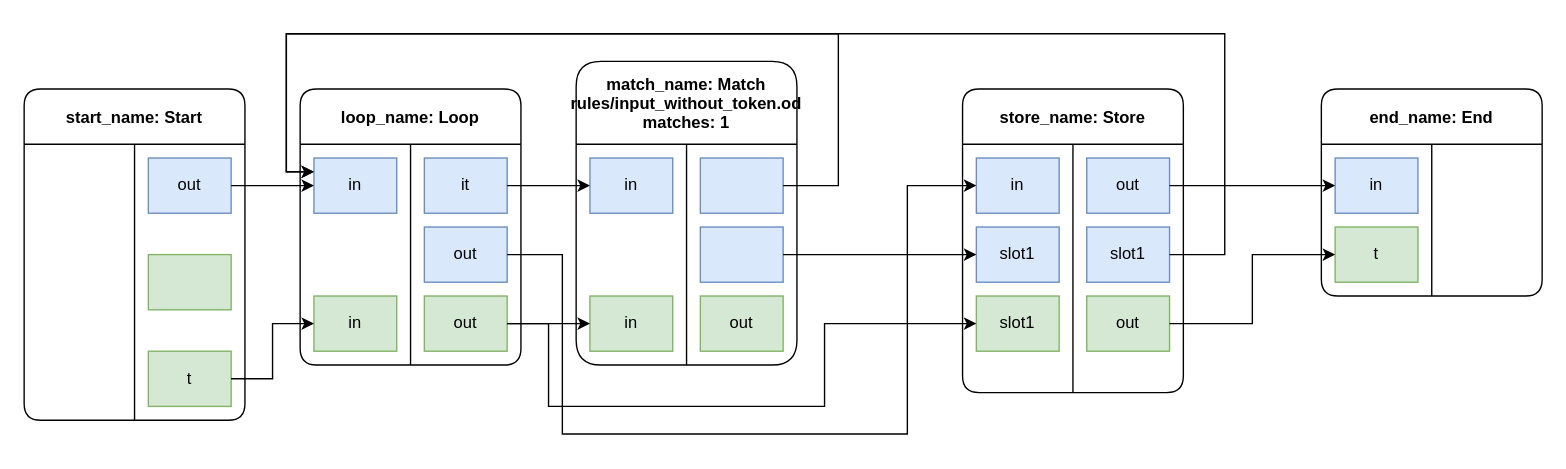
Image size: 1566x469. Some labels were removed from this diagram. The centre of each missing label's shape, as x and y in pixels:
"fail" belongs at pixel 741 254.
"foo" belongs at pixel 189 281.
"success" belongs at pixel 741 185.
